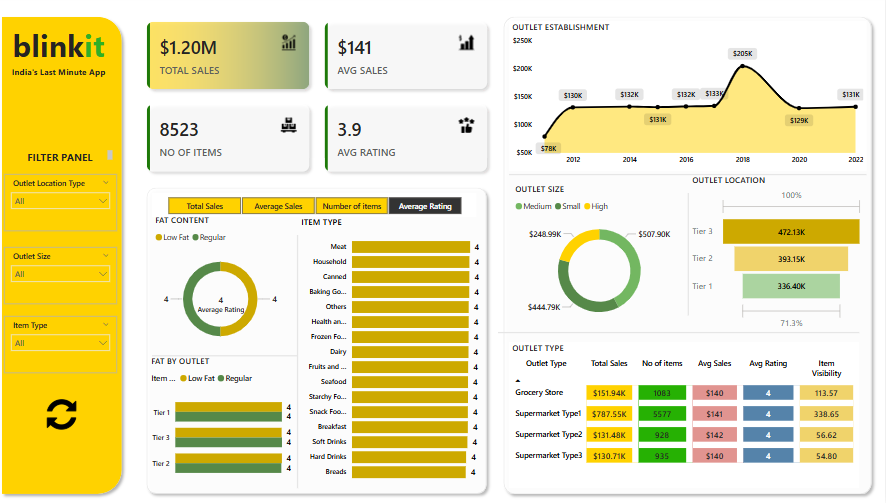

The page's visual inventory and layout, read from the dashboard file:
{"tool":"powerbi","page":{"name":"Page 1","canvas":[1400,800],"ordinal":0},"visuals":[{"type":"shape","box":[0,25.7,207.1,770],"z":0},{"type":"textbox","box":[5,41.2,187.5,81.2],"z":1000},{"type":"textbox","box":[14.4,107.5,168.8,28.8],"z":2000},{"type":"cardVisual","fields":{"Data":["BlinkIT Grocery Data.Total Sales","BlinkIT Grocery Data.Average Sales","BlinkIT Grocery Data.Number of items","BlinkIT Grocery Data.Average Rating"]},"box":[220,25,570,270],"z":3000},{"type":"shape","box":[228.3,295,553.3,500],"z":4000},{"type":"donutChart","title":"FAT CONTENT","fields":{"Y":["BlinkIT Grocery Data.Avg Rating"],"Category":["BlinkIT Grocery Data.Item Fat Content"]},"box":[245,345,215,222.5],"z":5000},{"type":"slicer","fields":{"Values":["Metrics.Metrix"]},"box":[245,311.2,511.2,37.5],"z":6000},{"type":"cardVisual","fields":{"Data":["BlinkIT Grocery Data.Avg Rating"]},"box":[298.3,445,113.3,81.7],"z":7000},{"type":"clusteredBarChart","title":"FAT BY OUTLET","fields":{"Y":["BlinkIT Grocery Data.Avg Rating"],"Category":["BlinkIT Grocery Data.Outlet Location Type"],"Series":["BlinkIT Grocery Data.Item Fat Content"]},"box":[240,567.1,230,208.6],"z":8000},{"type":"shape","box":[245,560,230,15],"z":9000},{"type":"shape","box":[460,377.5,30,398.8],"z":10000},{"type":"barChart","title":"ITEM TYPE","fields":{"Y":["BlinkIT Grocery Data.Avg Rating"],"Category":["BlinkIT Grocery Data.Item Type"]},"box":[475,348.8,290,427.5],"z":11000},{"type":"shape","box":[790,25.7,597.1,770],"z":12000},{"type":"lineChart","title":"OUTLET ESTABLISHMENT","fields":{"Y":["BlinkIT Grocery Data.Total Sales"],"Category":["BlinkIT Grocery Data.Outlet Establishment Year"]},"box":[807.1,41.4,562.9,235.7],"z":13000},{"type":"shape","box":[807.1,268.6,562.9,27.1],"z":14000},{"type":"donutChart","title":"OUTLET SIZE","fields":{"Y":["BlinkIT Grocery Data.Total Sales"],"Category":["BlinkIT Grocery Data.Outlet Size"]},"box":[812.9,295.7,275.7,231.4],"z":15000},{"type":"shape","box":[1072.9,311.4,35.7,192.9],"z":16000},{"type":"funnel","title":"OUTLET LOCATION","fields":{"Y":["Sum(BlinkIT Grocery Data.Sales)"],"Category":["BlinkIT Grocery Data.Outlet Location Type"]},"box":[1091.4,281.4,278.6,250],"z":17000},{"type":"shape","box":[790,518.6,568.6,27.1],"z":18000},{"type":"pivotTable","title":"OUTLET TYPE","fields":{"Values":["BlinkIT Grocery Data.Total Sales","BlinkIT Grocery Data.No of items","BlinkIT Grocery Data.Avg Sales","BlinkIT Grocery Data.Avg Rating","Sum(BlinkIT Grocery Data.Item Visibility)"],"Rows":["BlinkIT Grocery Data.Outlet Type"]},"box":[807.1,545.7,551.4,230],"z":19000},{"type":"slicer","fields":{"Values":["BlinkIT Grocery Data.Outlet Location Type"]},"box":[13.3,281.7,178.3,90],"z":20000},{"type":"slicer","fields":{"Values":["BlinkIT Grocery Data.Outlet Size"]},"box":[13.3,396.7,178.3,90],"z":21000},{"type":"slicer","fields":{"Values":["BlinkIT Grocery Data.Item Type"]},"box":[13.3,505,178.3,90],"z":22000},{"type":"textbox","box":[20,240,168.3,28.3],"z":23000},{"type":"actionButton","box":[64.6,631.5,67.7,58.3],"z":23001},{"type":"image","box":[69.3,631.5,67.7,58.3],"z":23002}]}

Visuals, with their boxes in screenshot pixels (x1, y1, x2, y2), scaled from the page's 1400x800 canvas onto the 886x503 screenshot:
shape: 0, 16, 131, 500
textbox: 3, 26, 122, 77
textbox: 9, 68, 116, 86
cardVisual - BlinkIT Grocery Data.Total Sales x BlinkIT Grocery Data.Average Sales: 139, 16, 500, 185
shape: 144, 185, 495, 500
"FAT CONTENT" donutChart: 155, 217, 291, 357
slicer - Metrics.Metrix: 155, 196, 479, 219
cardVisual - BlinkIT Grocery Data.Avg Rating: 189, 280, 260, 331
"FAT BY OUTLET" clusteredBarChart: 152, 357, 297, 488
shape: 155, 352, 301, 362
shape: 291, 237, 310, 488
"ITEM TYPE" barChart: 301, 219, 484, 488
shape: 500, 16, 878, 500
"OUTLET ESTABLISHMENT" lineChart: 511, 26, 867, 174
shape: 511, 169, 867, 186
"OUTLET SIZE" donutChart: 514, 186, 689, 331
shape: 679, 196, 702, 317
"OUTLET LOCATION" funnel: 691, 177, 867, 334
shape: 500, 326, 860, 343
"OUTLET TYPE" pivotTable: 511, 343, 860, 488
slicer - BlinkIT Grocery Data.Outlet Location Type: 8, 177, 121, 234
slicer - BlinkIT Grocery Data.Outlet Size: 8, 249, 121, 306
slicer - BlinkIT Grocery Data.Item Type: 8, 318, 121, 374
textbox: 13, 151, 119, 169
actionButton: 41, 397, 84, 434
image: 44, 397, 87, 434
